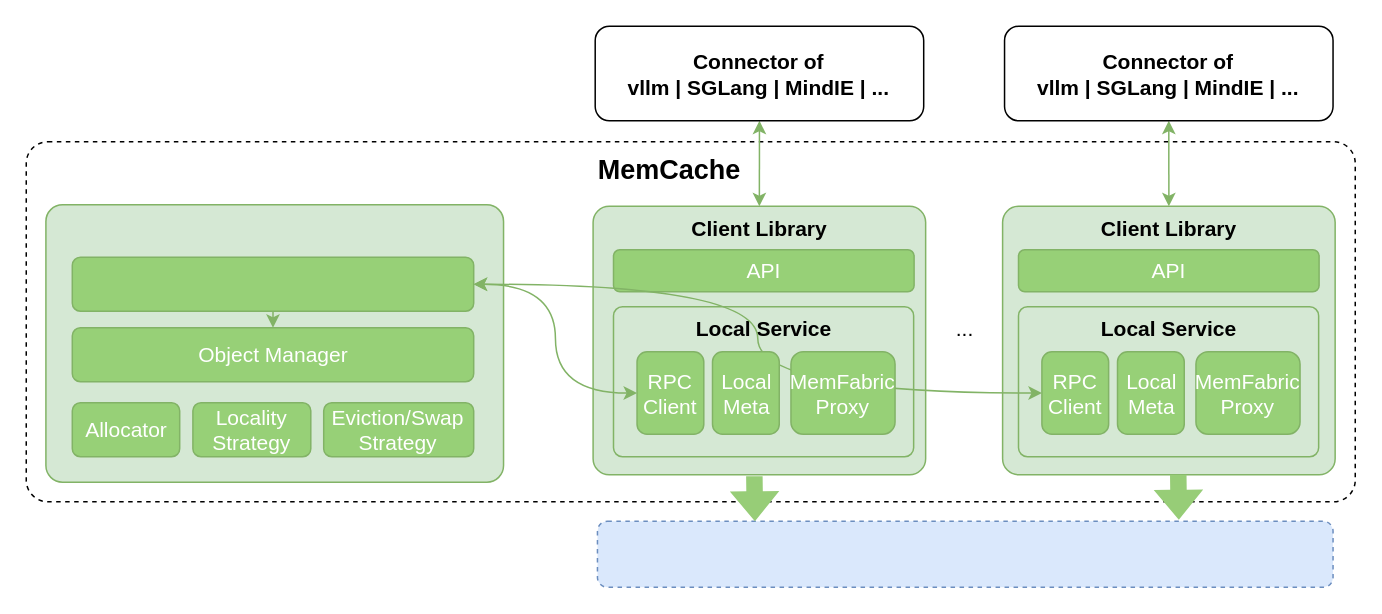
The diagram is 1382 pixels wide and 614 high, and some of its shapes have lost their labels. The box of each missing label's shape, as (x1, y1, x2, y2) in pixels:
Mem Fabric: (596, 520, 1333, 587)
Meta Service: (44, 203, 504, 482)
RPC Server: (71, 256, 474, 311)
